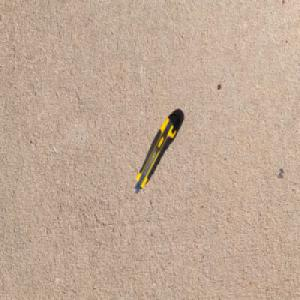Cutter: (132, 109, 180, 194)
